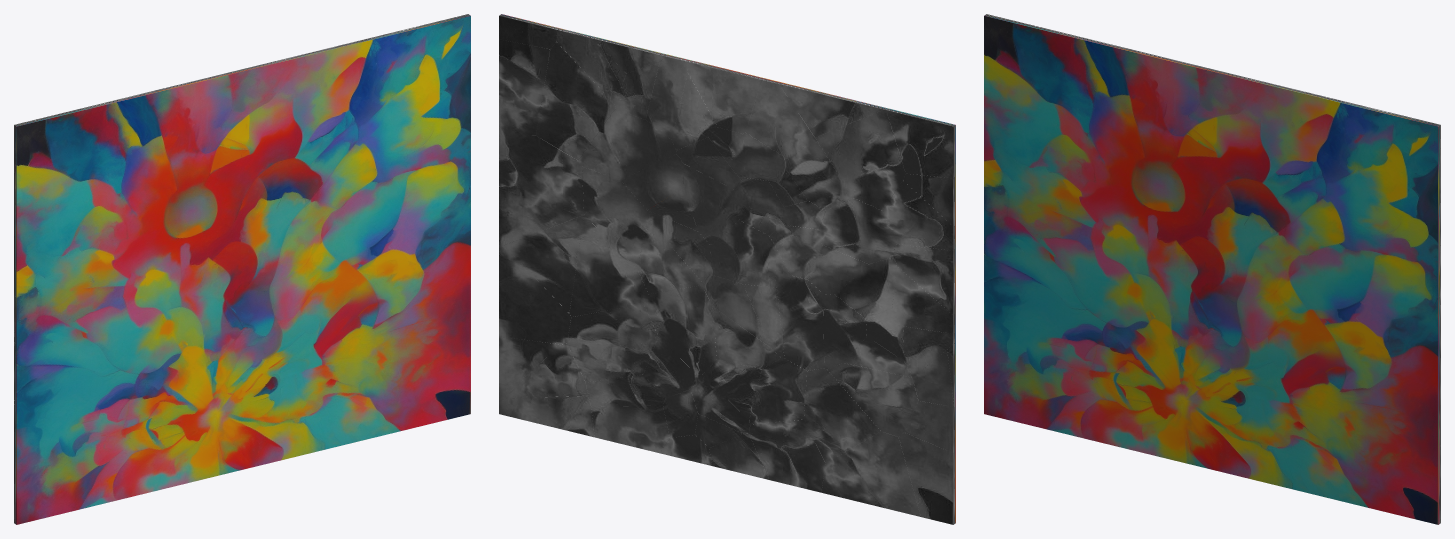
File: ArttworkFractured.fbx
The picture shows the model from 3 angles, left to right: view 1: azimuth 30°, elevation 25°; view 2: azimuth 150°, elevation 25°; view 3: azimuth 330°, elevation 25°; orthographic projection.
Parts seen in each view (by area): view 1: ColoredPiece; view 2: Cube_1_fracturepart38, Cube_1_fracturepart64, Cube_1_fracturepart63, Cube_1_fracturepart2, Cube_1_fracturepart26, Cube_1_fracturepart53, Cube_1_fracturepart24, Cube_1_fracturepart49, Cube_1_fracturepart36, Cube_1_fracturepart21, Cube_1_fracturepart30, Cube_1_fracturepart39 (+59 smaller); view 3: ColoredPiece.
Part boxes in pixels (x1,y1,x2,y2): ColoredPiece: [15, 15, 470, 524]; Cube_1_fracturepart38: [499, 135, 584, 244]; Cube_1_fracturepart64: [567, 304, 658, 382]; Cube_1_fracturepart63: [536, 41, 615, 160]; Cube_1_fracturepart2: [815, 108, 905, 210]; Cube_1_fracturepart26: [821, 431, 920, 516]; Cube_1_fracturepart53: [569, 215, 648, 316]; Cube_1_fracturepart24: [499, 242, 571, 344]; Cube_1_fracturepart49: [643, 285, 716, 374]; Cube_1_fracturepart36: [804, 368, 880, 463]; Cube_1_fracturepart21: [578, 108, 676, 179]; Cube_1_fracturepart30: [499, 39, 550, 135]; Cube_1_fracturepart39: [749, 419, 825, 492]; ColoredPiece: [984, 15, 1439, 524].
Bounding box in the file's own units: 1222 × 1024 × 11.43.
Materials: 2 (2 with a texture image).
